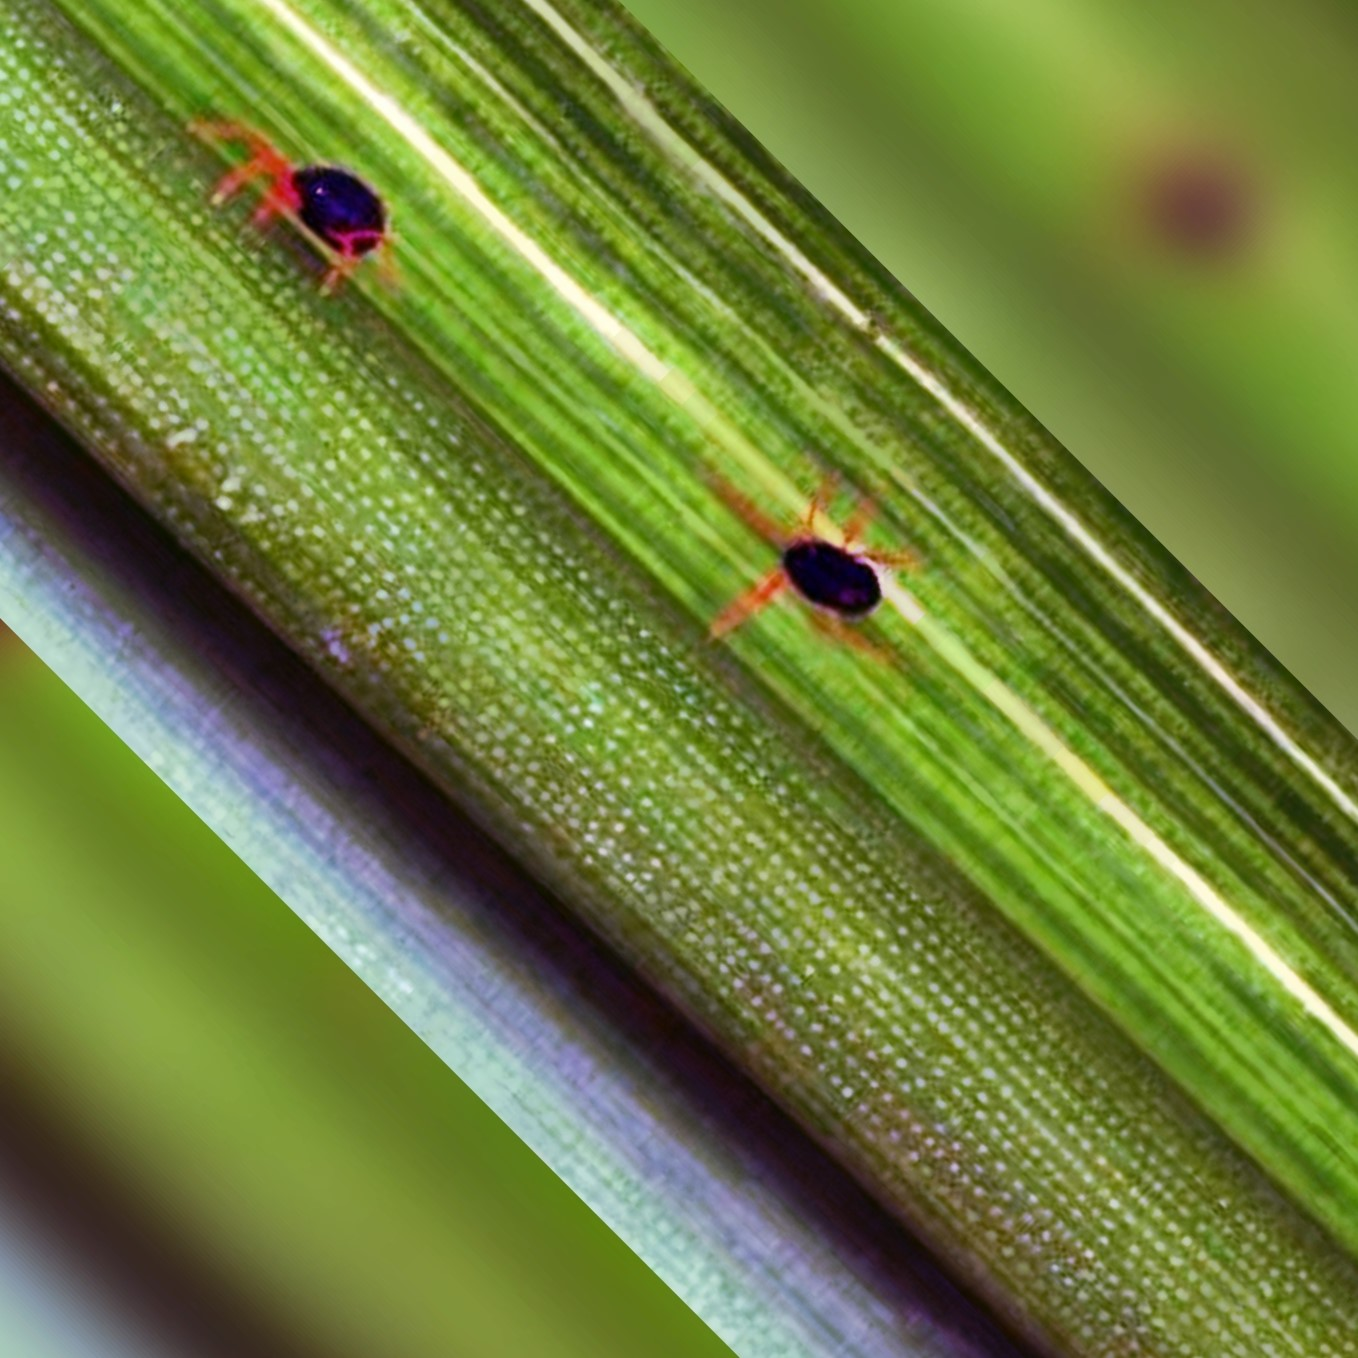Wheat Red Spider: (645, 412, 964, 693), (180, 80, 480, 339)
